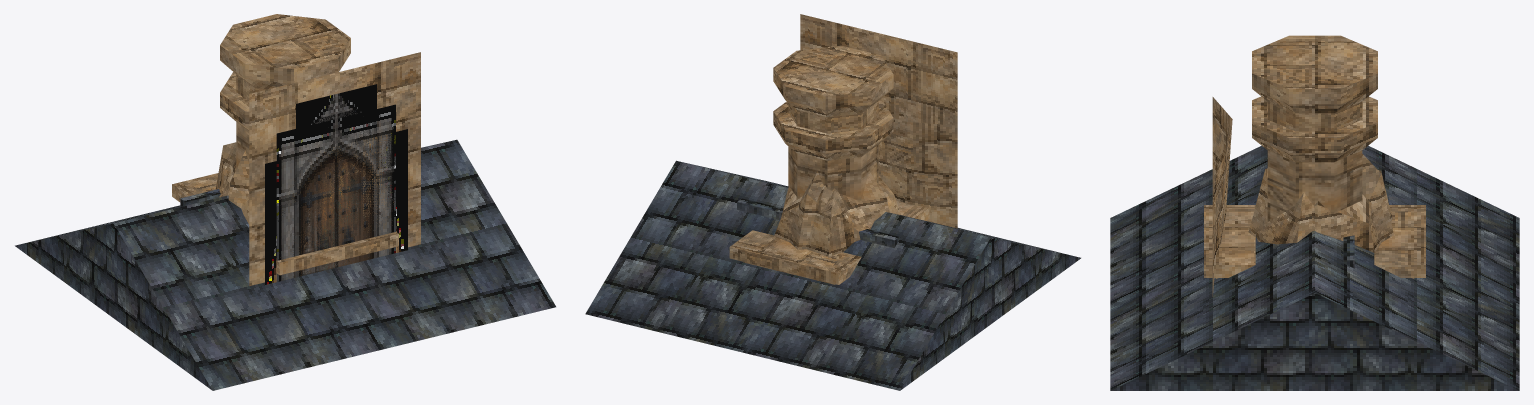
The model's file is ex_v1_kit.glb.
The picture shows the model from 3 angles, left to right: view 1: azimuth 30°, elevation 25°; view 2: azimuth 150°, elevation 25°; view 3: azimuth 270°, elevation 25°; orthographic projection. The views are drawn at different scales.
Parts seen in each view (by area): view 1: ex_roof, ex_door, ex_cathedral_wall, ex_pier, ex_tombdoor, ex_window, ex_tomb, ex_glass, ex_column, ex_tomb_wall, ex_rock_2, ex_rock_0; view 2: ex_roof, ex_pier, ex_cathedral_wall, ex_cliff, ex_column, ex_tomb, ex_rock_0, ex_rock_2, ex_rock_1, ex_pew; view 3: ex_roof, ex_pier, ex_column, ex_tomb, ex_rock_2, ex_cliff, ex_rock_1, ex_rock_0, ex_pew.
Boxes of the visible parts, bbox=[...] form: ex_roof: bbox=[15, 139, 555, 390]; ex_door: bbox=[276, 104, 395, 281]; ex_cathedral_wall: bbox=[249, 52, 420, 285]; ex_pier: bbox=[220, 14, 350, 166]; ex_tombdoor: bbox=[265, 129, 407, 284]; ex_window: bbox=[302, 105, 370, 275]; ex_tomb: bbox=[172, 173, 398, 275]; ex_glass: bbox=[296, 84, 376, 128]; ex_column: bbox=[220, 72, 249, 168]; ex_tomb_wall: bbox=[249, 94, 420, 285]; ex_rock_2: bbox=[227, 150, 249, 208]; ex_rock_0: bbox=[215, 142, 249, 224]; ex_roof: bbox=[585, 160, 1080, 390]; ex_pier: bbox=[773, 45, 893, 200]; ex_cathedral_wall: bbox=[800, 14, 957, 125]; ex_cliff: bbox=[878, 118, 957, 228]; ex_column: bbox=[773, 99, 893, 200]; ex_tomb: bbox=[729, 200, 929, 284]; ex_rock_0: bbox=[807, 175, 900, 256]; ex_rock_2: bbox=[790, 171, 889, 249]; ex_rock_1: bbox=[774, 185, 874, 242]; ex_pew: bbox=[737, 198, 899, 247]; ex_roof: bbox=[1110, 145, 1519, 390]; ex_pier: bbox=[1252, 35, 1377, 221]; ex_column: bbox=[1252, 96, 1377, 221]; ex_tomb: bbox=[1204, 205, 1425, 278]; ex_rock_2: bbox=[1257, 154, 1393, 244]; ex_cliff: bbox=[1212, 97, 1232, 296]; ex_rock_1: bbox=[1312, 194, 1381, 252]; ex_rock_0: bbox=[1248, 168, 1392, 237]; ex_pew: bbox=[1343, 235, 1354, 268].
Bounding box in the file's own units: 144 × 96 × 144.
7 materials, 7 textured.
